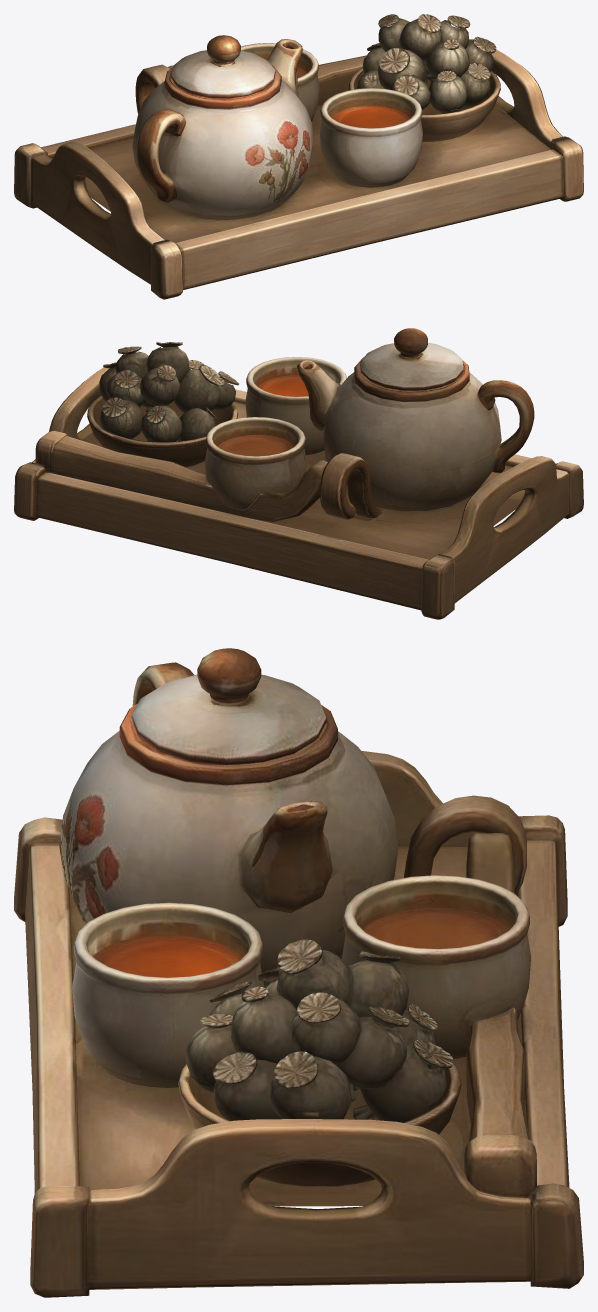
The model's file is act1-a19-2-poppy-tea-tray.glb.
3 renders of one model, top to bottom at view 1: azimuth 30°, elevation 25°; view 2: azimuth 150°, elevation 25°; view 3: azimuth 270°, elevation 25°, orthographic. The views are drawn at different scales.
Parts seen in each view (by area): view 1: act1-a19-2-poppy-tea-tray; view 2: act1-a19-2-poppy-tea-tray; view 3: act1-a19-2-poppy-tea-tray.
Part boxes in pixels (x1,y1,x2,y2): act1-a19-2-poppy-tea-tray: (14,14,583,299); act1-a19-2-poppy-tea-tray: (14,328,583,619); act1-a19-2-poppy-tea-tray: (14,648,583,1297).
Size of the model in its own units: 0.5 by 0.2211 by 0.3085.
Materials: 1 (1 with a texture image).
